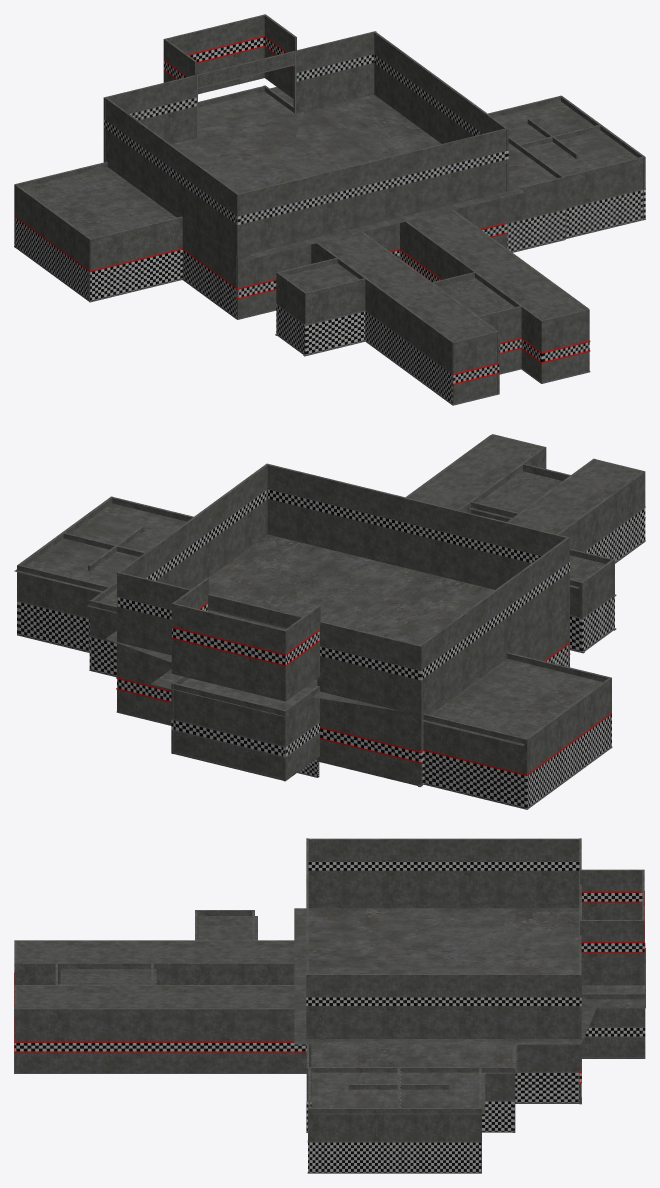
File: FNAF-Pizzeria.fbx
3 renders of one model, top to bottom at view 1: azimuth 30°, elevation 25°; view 2: azimuth 150°, elevation 25°; view 3: azimuth 270°, elevation 25°, orthographic. The views are drawn at different scales.
Visible parts, largest first — view 1: Object_10, Object_2, Object_11, Object_9, Object_12, Object_7, Object_8; view 2: Object_10, Object_2, Object_9, Object_11, Object_12, Object_7, Object_8; view 3: Object_2, Object_10, Object_9, Object_11, Object_7, Object_8.
Part boxes in pixels (x1,y1,x2,y2): Object_10: [103, 14, 508, 257]; Object_2: [22, 87, 637, 341]; Object_11: [276, 95, 645, 403]; Object_9: [103, 51, 589, 404]; Object_12: [14, 161, 236, 317]; Object_7: [14, 51, 645, 405]; Object_8: [14, 36, 590, 384]; Object_10: [117, 463, 569, 716]; Object_2: [14, 435, 641, 745]; Object_9: [117, 434, 644, 786]; Object_11: [17, 472, 645, 777]; Object_12: [422, 608, 611, 808]; Object_7: [17, 507, 645, 809]; Object_8: [116, 506, 645, 775]; Object_2: [16, 908, 645, 1114]; Object_10: [306, 838, 644, 1039]; Object_9: [14, 885, 645, 1103]; Object_11: [195, 910, 579, 1172]; Object_7: [14, 884, 645, 1173]; Object_8: [14, 891, 644, 1083].
Bounding box in the file's own units: 5137 × 1499 × 5416.
10 materials, 8 textured.
